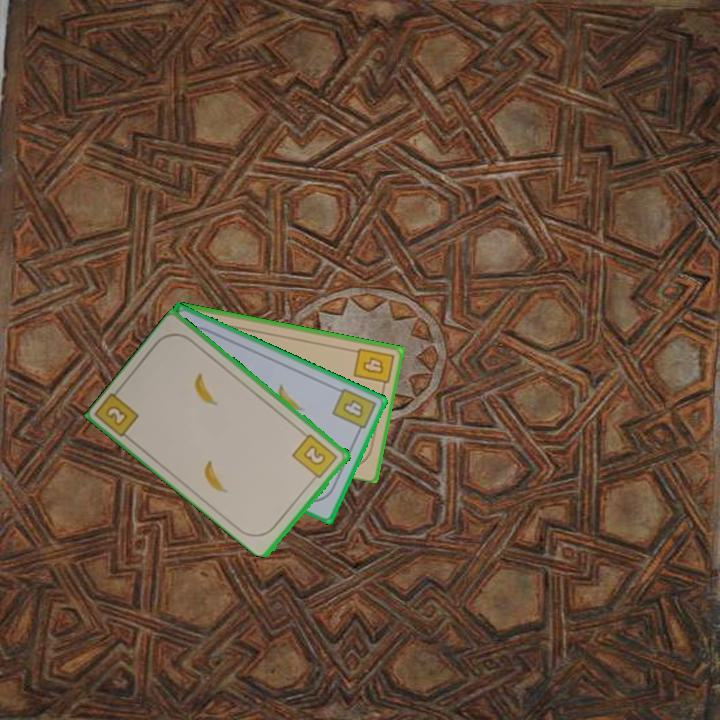2b: (289, 430, 341, 484), (102, 402, 131, 429)
4b: (329, 384, 379, 438), (350, 344, 397, 392)
